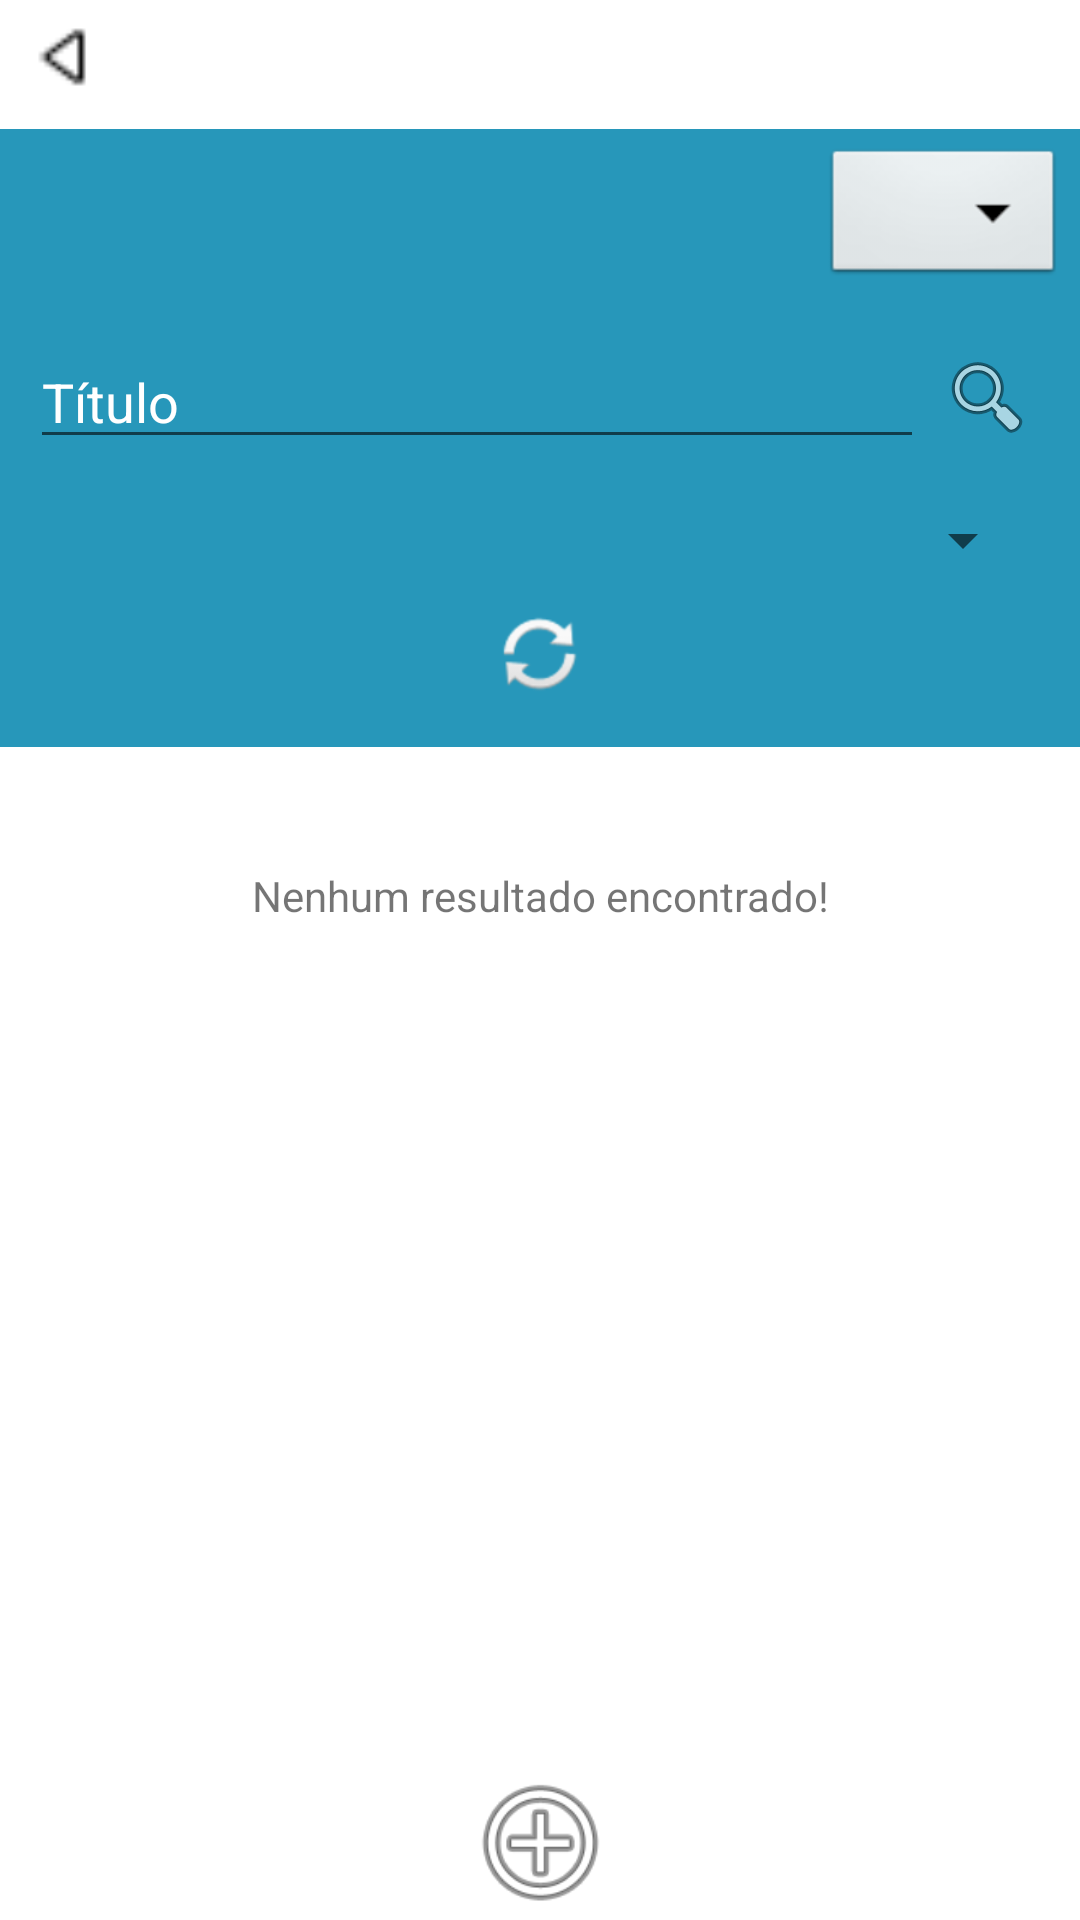

Where to tap for icons on this 1080px x 1920px app screen, as (x,y):
add: (540,1843)
arrow left: (62,57)
dropdown: (943,212)
popup sync: (539,654)
search: (987,397)
